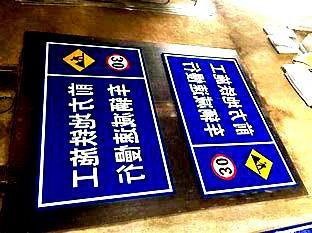sign: (40, 40, 166, 209), (167, 43, 298, 200)
